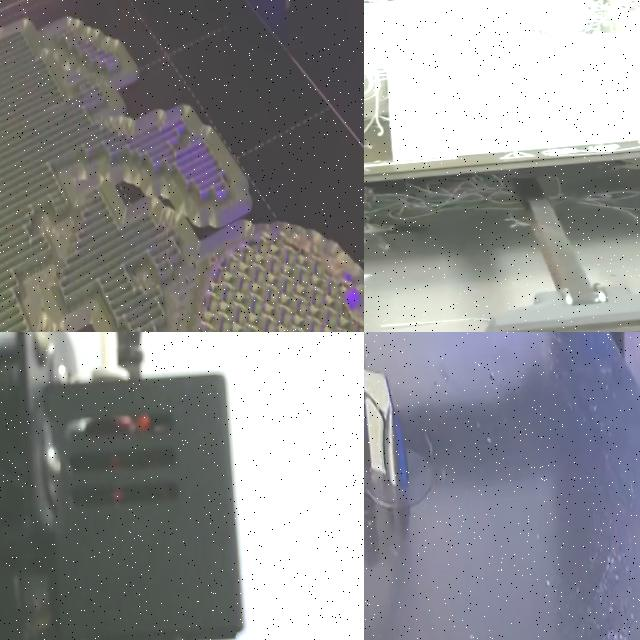spaghetti: (364, 0, 640, 180), (364, 165, 640, 245)
